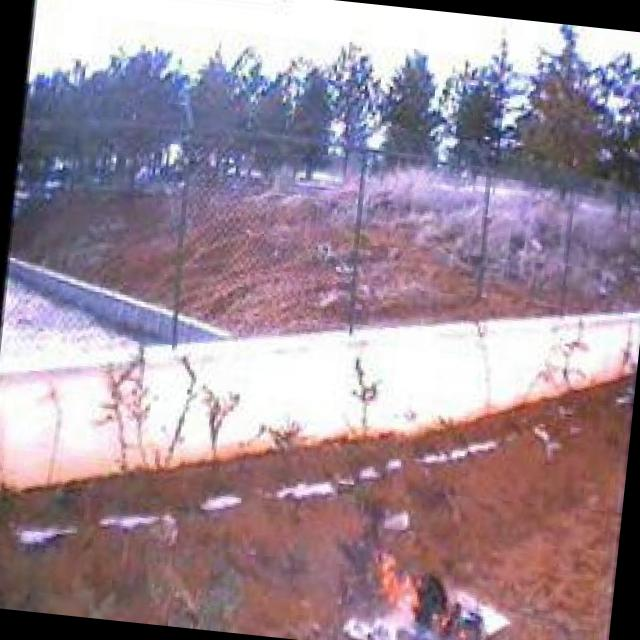Fire: (368, 542, 486, 640)
